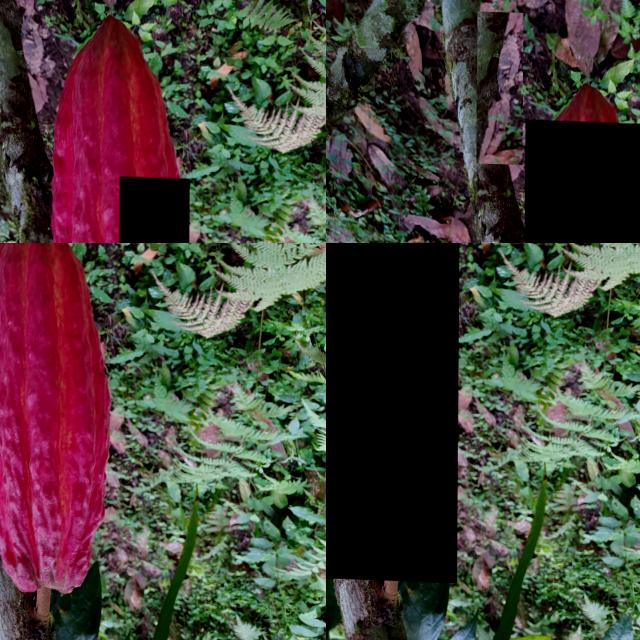Fitoftora: (118, 174, 190, 243)
Sana: (326, 243, 460, 580), (523, 117, 640, 243), (477, 10, 524, 163), (84, 515, 140, 610)
